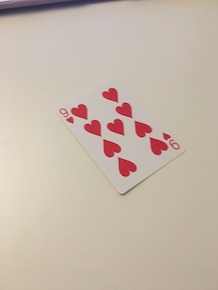NineOfHearts: (57, 74, 188, 197)
